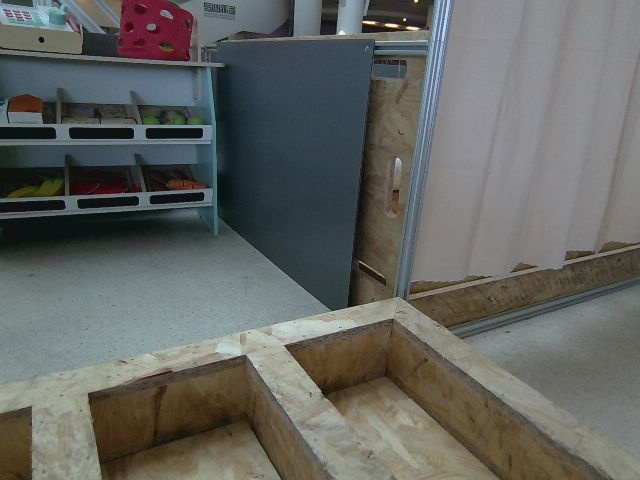curtain: (384, 0, 640, 264)
